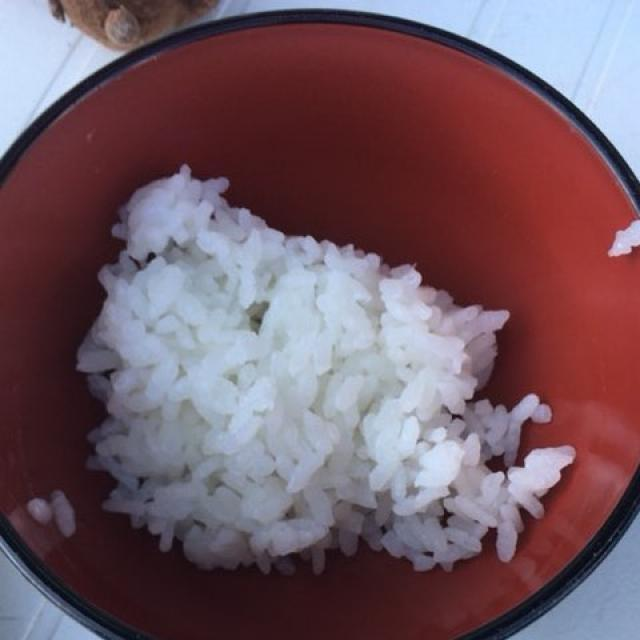rice: (85, 187, 559, 555)
